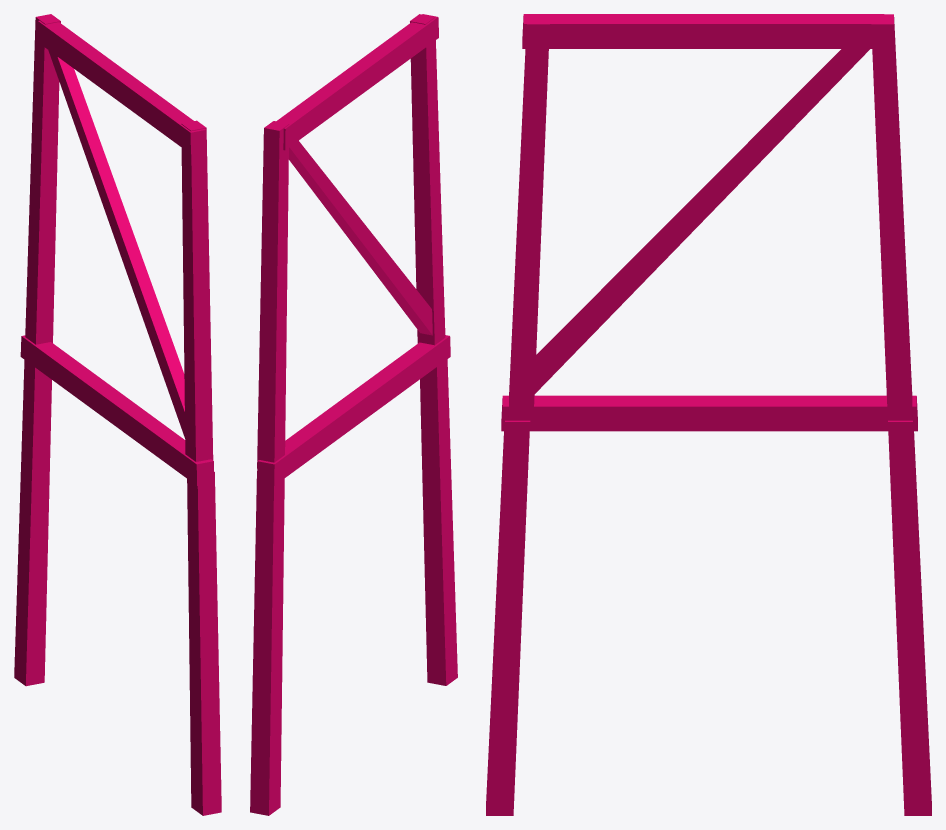
The model's file is Bastion_Pillar_01_Lod0.fbx.
3 views of the same model, side by side, from view 1: azimuth 30°, elevation 25°; view 2: azimuth 150°, elevation 25°; view 3: azimuth 270°, elevation 25° (orthographic). The views are drawn at different scales.
Visible parts, largest first — view 1: Bastion_Pillar_01_Lod0; view 2: Bastion_Pillar_01_Lod0; view 3: Bastion_Pillar_01_Lod0.
Part boxes in pixels (<box>): Bastion_Pillar_01_Lod0: <box>14,14,221,815</box>; Bastion_Pillar_01_Lod0: <box>250,14,457,815</box>; Bastion_Pillar_01_Lod0: <box>486,14,931,815</box>.
Size of the model in its own units: 19.73 by 603 by 307.
